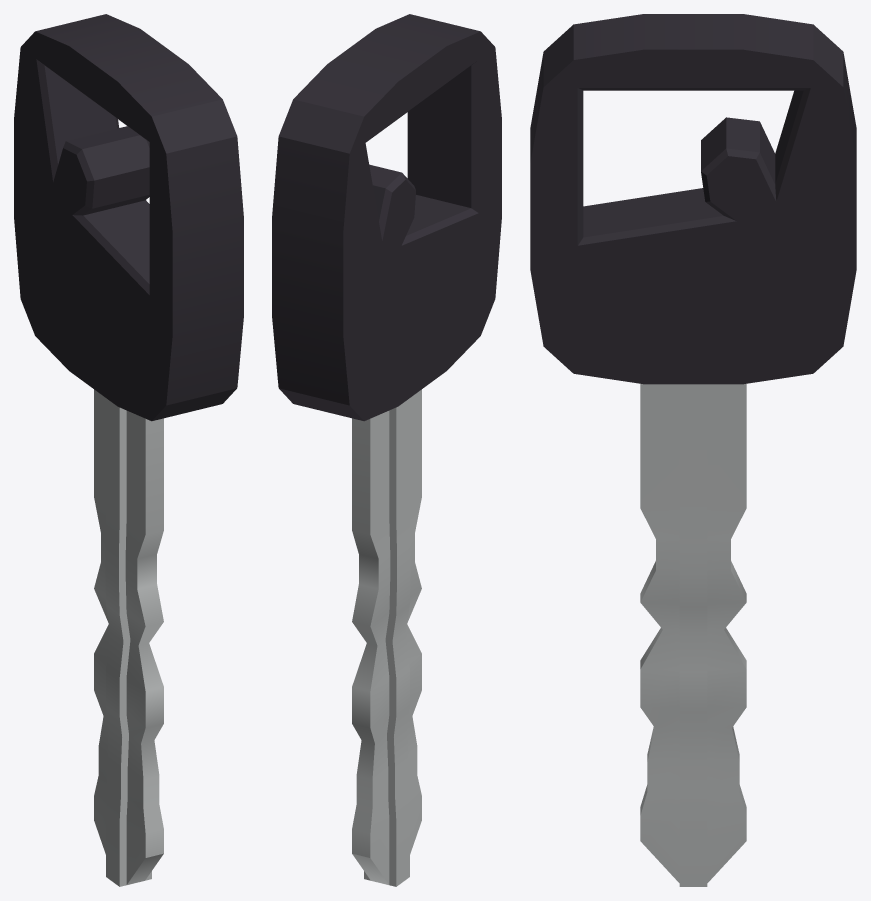
File: carKey.fbx
3 views of the same model, side by side, from view 1: azimuth 30°, elevation 25°; view 2: azimuth 150°, elevation 25°; view 3: azimuth 270°, elevation 25° (orthographic). The views are drawn at different scales.
Visible parts, largest first — view 1: pCube69; view 2: pCube69; view 3: pCube69.
Boxes of the visible parts, box(x1,y1,x2,y2) form: pCube69: box(14, 14, 243, 886); pCube69: box(272, 14, 501, 886); pCube69: box(530, 14, 856, 886).
Bounding box in the file's own units: 0.0158 × 0.1745 × 0.061.
